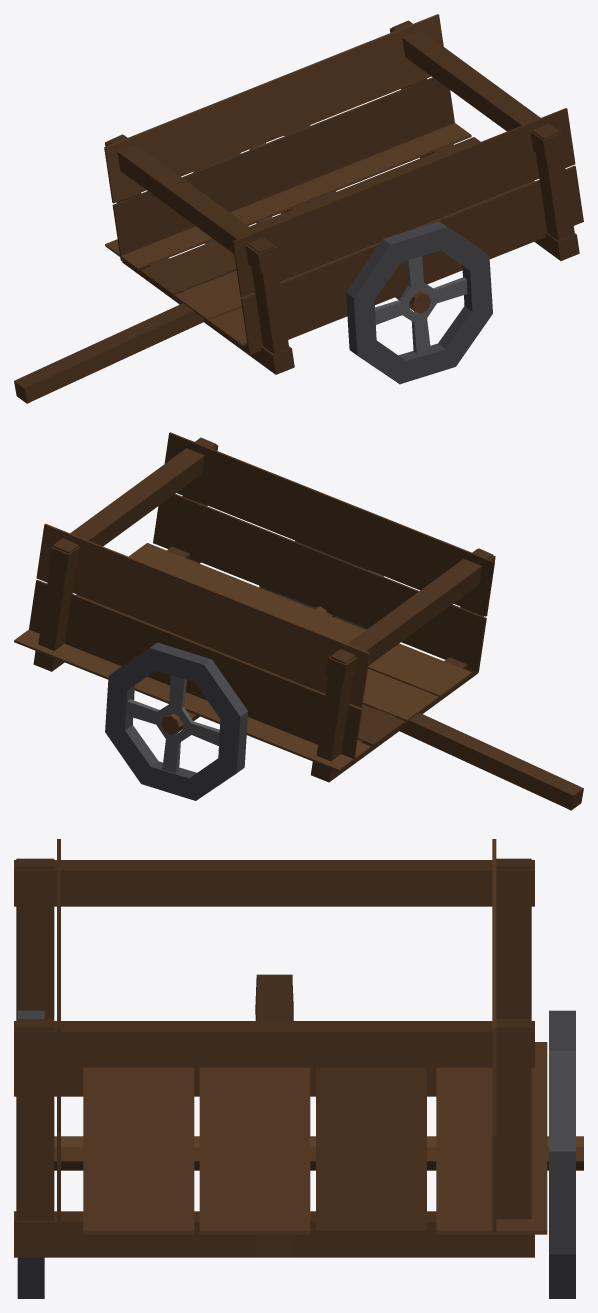
File: cart1.fbx
The picture shows the model from 3 angles, top to bottom: view 1: azimuth 30°, elevation 25°; view 2: azimuth 150°, elevation 25°; view 3: azimuth 270°, elevation 25°; orthographic projection. The views are drawn at different scales.
Visible parts, largest first — view 1: cart1; view 2: cart1; view 3: cart1.
Part boxes in pixels (x1,y1,x2,y2): cart1: (14, 14, 583, 403); cart1: (14, 432, 583, 810); cart1: (14, 839, 583, 1298).
Size of the model in its own units: 474 by 202 by 275.
